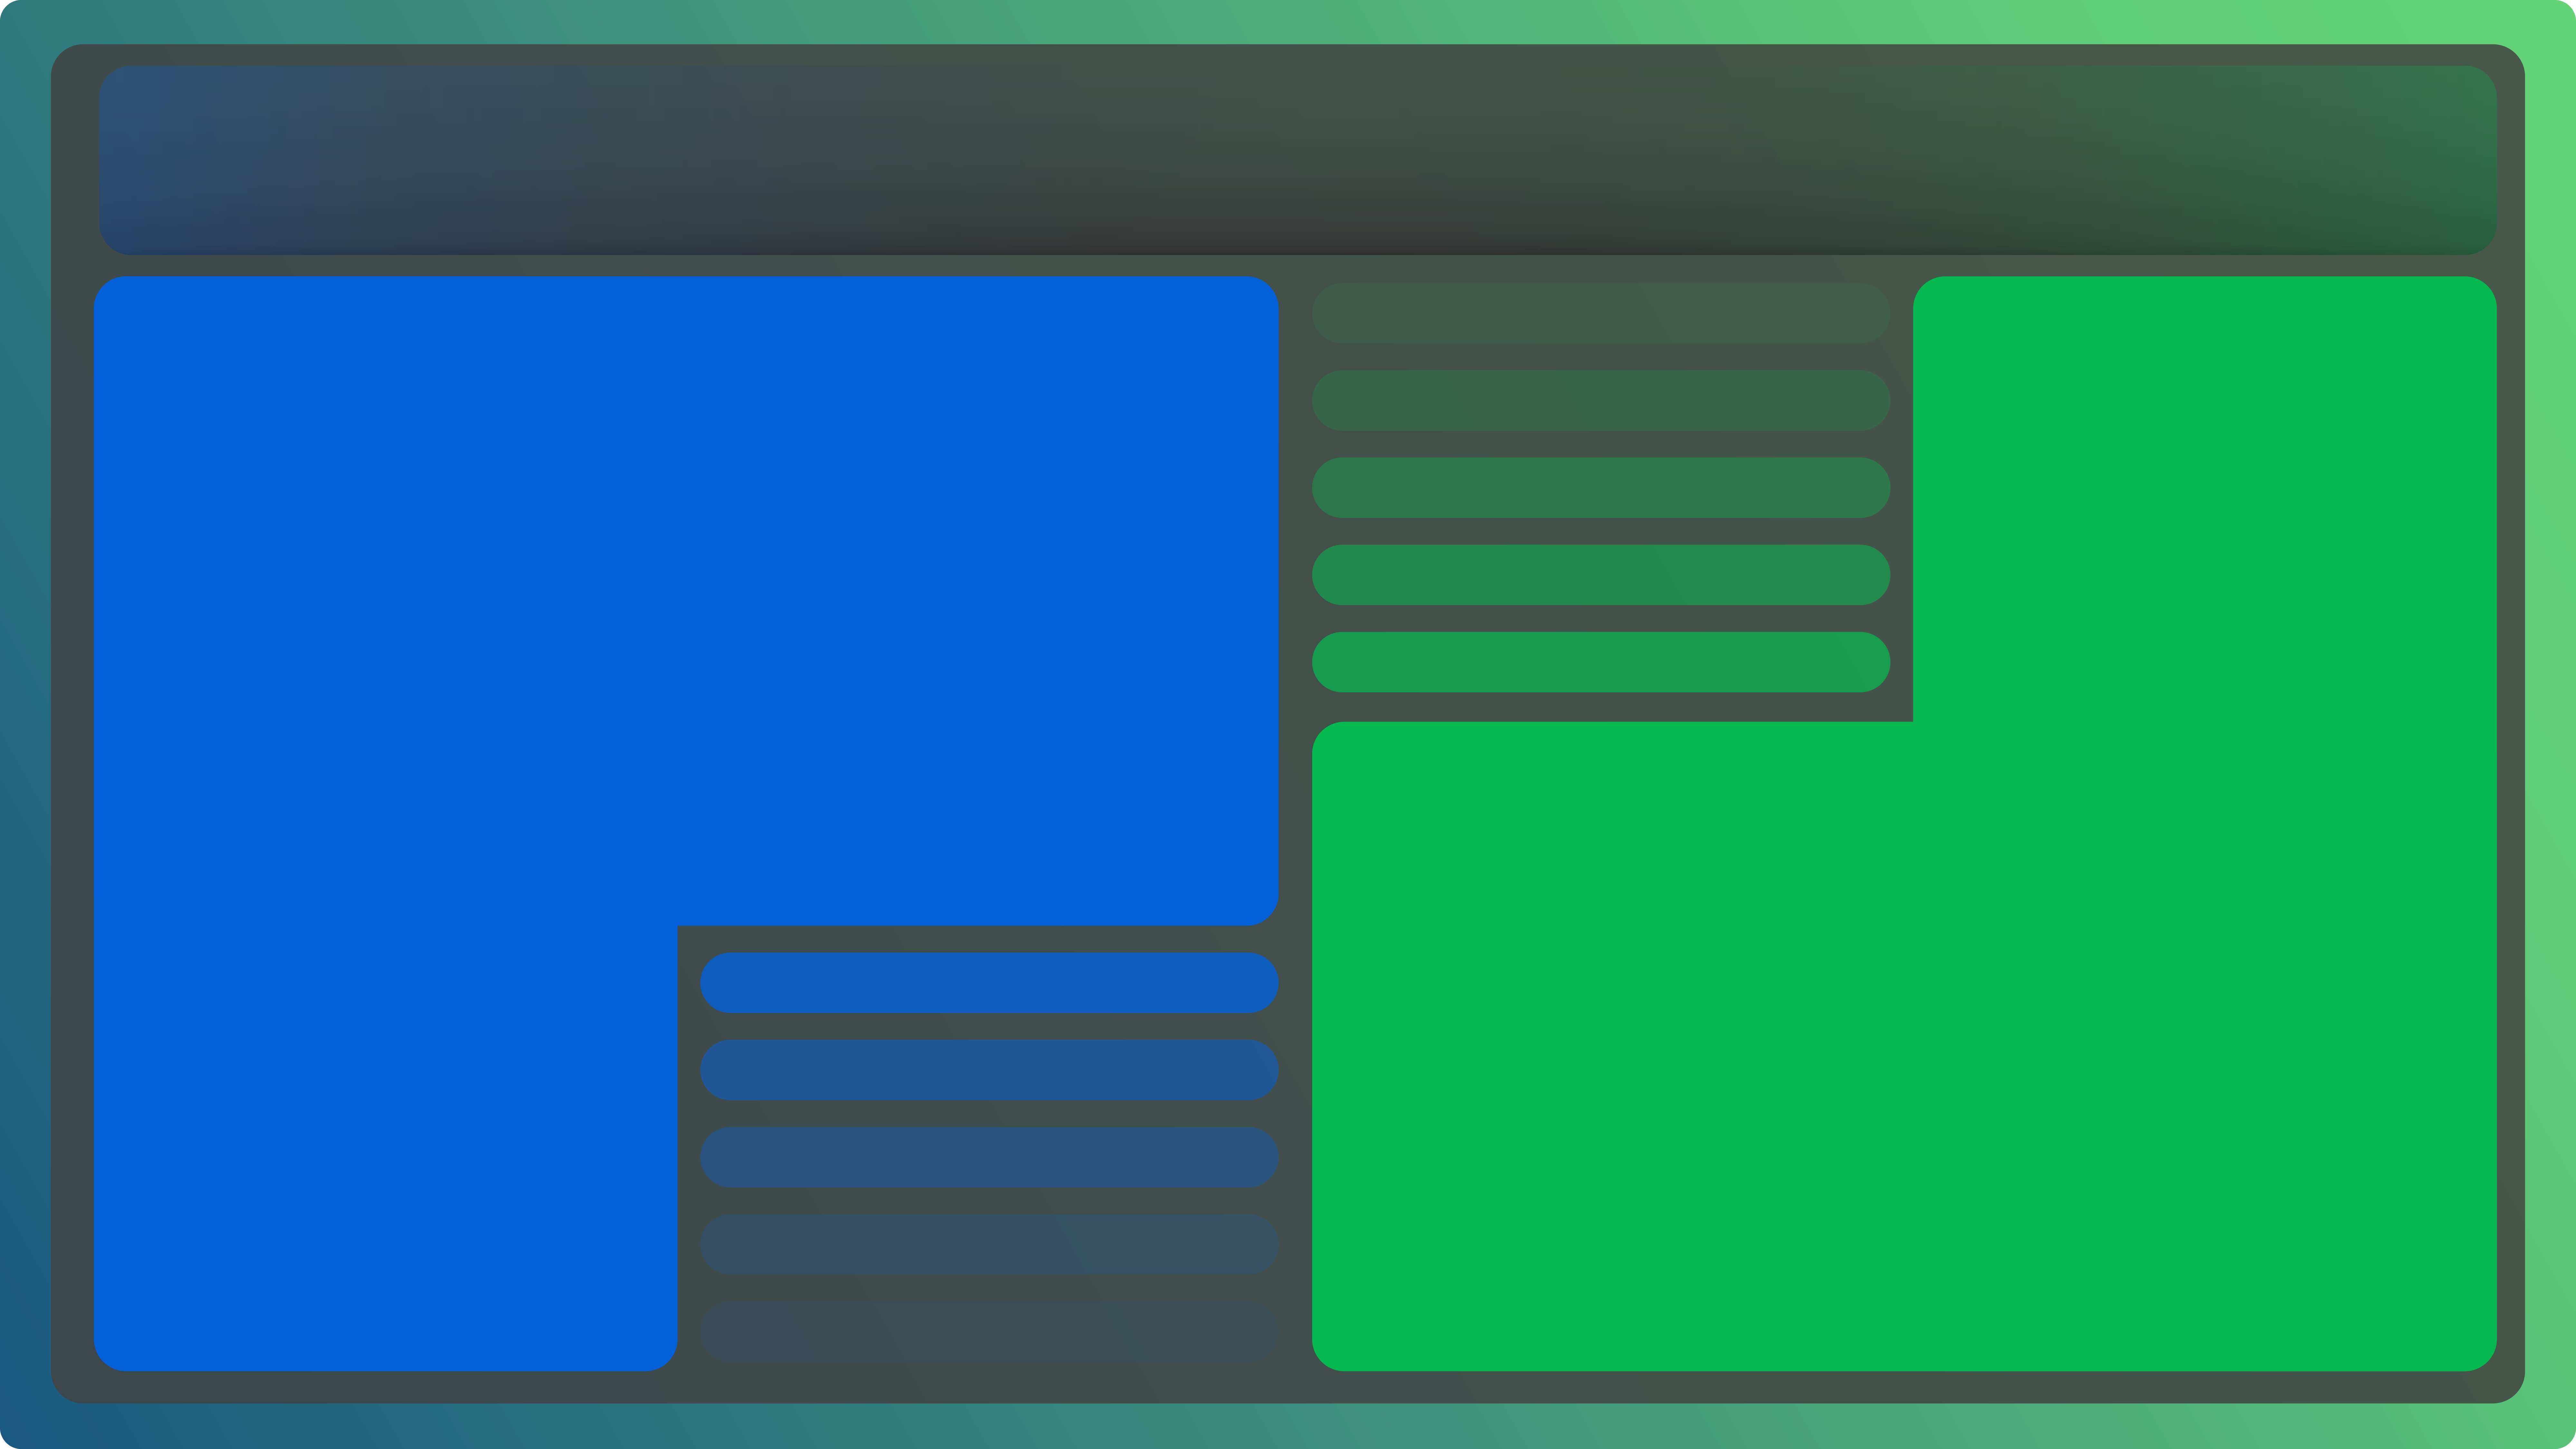

Layout of this report page (visuals, bound fields, positions):
{"tool":"tableau","page":{"name":"viz","canvas":[1450,950],"ordinal":0},"visuals":[{"type":"image","param":"Image/Dashboard @2x.png","box":[0,0,1450,950]},{"type":"image","param":"Image/Heading @2x.png","box":[85,80,494,50]},{"type":"blank","box":[579,80,362,50]},{"type":"text","box":[941,80,150,25]},{"type":"blank","box":[1091,80,30,50]},{"type":"image","param":"Image/Logo (1).png","box":[1121,80,244,25]},{"type":"worksheet","title":"Toggle Switch","mark":"Shape","rows":["Calculation_66428104941862918"],"box":[941,105,50,25]},{"type":"blank","box":[991,105,100,25]},{"type":"text","box":[1121,105,244,25]},{"type":"text","box":[90,180,110,30]},{"type":"worksheet","title":"Date indicator","mark":"Text","box":[200,180,380,30]},{"type":"text","box":[640,180,338,30]},{"type":"text","box":[978,180,382,30]},{"type":"blank","box":[90,210,490,10]},{"type":"worksheet","title":"Gender","mark":"Pie","rows":["Gender"],"cols":["Calculation_969681346415046657","Calculation_969681346415046657"],"box":[640,210,170,230]},{"type":"blank","box":[810,210,17,230]},{"type":"blank","box":[1057,210,22,230]},{"type":"image","param":"Image/a.png","box":[110,220,40,70]},{"type":"worksheet","title":"KPI 1","mark":"Text","box":[150,220,117,70]},{"type":"image","param":"Image/b.png","box":[267,220,40,70]},{"type":"worksheet","title":"KPI 2","mark":"Text","box":[307,220,117,70]},{"type":"image","param":"Image/c.png","box":[424,220,40,70]},{"type":"worksheet","title":"KPI 3","mark":"Text","box":[464,220,116,70]},{"type":"text","box":[832,220,220,25]},{"type":"worksheet","title":"Education Header","mark":"Text","box":[1089,220,178,25]},{"type":"parameter","param":"[Parameters].[Parameter 2]","box":[1267,220,83,25]},{"type":"worksheet","title":"Age Group","mark":"Bar","rows":["EmployeeCount"],"box":[832,245,220,185]},{"type":"worksheet","title":"Education","mark":"Bar","rows":["Calculation_635570549120753665","Calculation_969681346417168386"],"cols":["vtmin"],"box":[1089,250,260,185]},{"type":"worksheet","title":"Education (A)","mark":"Bar","rows":["Calculation_635570549120753665","Calculation_969681346417168386"],"cols":["vtmin"],"box":[1349,250,1,185]},{"type":"blank","box":[90,290,490,21]},{"type":"worksheet","title":"Department","mark":"Pie","rows":["Department"],"cols":["Calculation_635570549245562889","Calculation_635570549245562889"],"box":[90,311,187,249]},{"type":"blank","box":[277,311,12,249]},{"type":"text","box":[299,321,174,29]},{"type":"parameter","param":"[Parameters].[Parameter 3]","box":[473,321,97,29]},{"type":"worksheet","title":"Job Role","mark":"Shape","rows":["JobRole"],"cols":["Calculation_969681346417168386"],"box":[299,350,271,200]},{"type":"text","box":[640,500,250,30]},{"type":"worksheet","title":"Satisfaction Score- Info","mark":"Shape","cols":["Calculation_17170025537437710"],"box":[890,500,30,30]},{"type":"text","box":[980,500,380,30]},{"type":"worksheet","title":"Satisfaction Score Header","mark":"Text","rows":["Calculation_1632554917652107265"],"cols":["EnvironmentSatisfaction"],"box":[640,530,280,25]},{"type":"text","box":[980,530,56,27]},{"type":"filter","title":"Attrition Detail","param":"[federated.05j07o51a9v3ul13aijys15hxtp7].[none:Calculation_635570549291978795:nk","box":[1036,530,106.5,27]},{"type":"blank","box":[1142.5,530,32,27]},{"type":"text","box":[1174.5,530,79,27]},{"type":"filter","title":"Attrition Detail","param":"[federated.05j07o51a9v3ul13aijys15hxtp7].[my:Attrition Date:ok]","box":[1253.5,530,106.5,27]},{"type":"worksheet","title":"Attrition Detail","mark":"Text","rows":["EmployeeNumber","Attrition Date"],"cols":["Calculation_635570549295177775","Calculation_635570549299482675","Calculation_635570549295177775"],"box":[980,557,380,303]},{"type":"blank","box":[90,560,490,20]},{"type":"worksheet","title":"Environment Satisfaction ","mark":"Square","rows":["Calculation_635570549282226201"],"cols":["EnvironmentSatisfaction"],"box":[646,561,268,49]},{"type":"text","box":[100,590,265,25]},{"type":"text","box":[365,590,95,25]},{"type":"worksheet","title":"Trend - Toggle Buttons","mark":"Shape","cols":["Period Selector"],"box":[460,590,110,25]},{"type":"worksheet","title":"Trend - % Difference","mark":"Text","box":[100,615,470,25]},{"type":"worksheet","title":"Job Satisfaction ","mark":"Square","rows":["Calculation_1632554917660635139"],"cols":["JobSatisfaction"],"box":[646,622,268,49]},{"type":"worksheet","title":"Attrition Trend- M","mark":"Bar","rows":["EmployeeCount"],"cols":["Attrition Date"],"box":[100,645,467,173]},{"type":"worksheet","title":"Attrition Trend- Y","mark":"Bar","rows":["EmployeeCount"],"cols":["Attrition Date"],"box":[567,645,1,173]},{"type":"worksheet","title":"Attrition Trend- Q","mark":"Bar","rows":["EmployeeCount"],"cols":["Attrition Date"],"box":[568,645,1,173]},{"type":"worksheet","title":"Attrition Trend- W","mark":"Bar","rows":["EmployeeCount"],"cols":["Attrition Date"],"box":[569,645,1,173]},{"type":"worksheet","title":"Job Involvement ","mark":"Square","rows":["Calculation_635570549283553314"],"cols":["JobInvolvement"],"box":[646,683,268,49]},{"type":"worksheet","title":"Relationship Satisfaction ","mark":"Square","rows":["Calculation_635570549283098655"],"cols":["RelationshipSatisfaction"],"box":[646,744,268,49]},{"type":"blank","box":[104,797,48,22]},{"type":"worksheet","title":"Work Life Balance","mark":"Square","rows":["Calculation_635570549284532261"],"cols":["WorkLifeBalance"],"box":[646,805,268,49]},{"type":"text","box":[90,838,340,22]},{"type":"worksheet","title":"IIB Awards","mark":"Shape","rows":["Calculation_892557189511622660"],"box":[430,838,30,22]},{"type":"dashboard-object","box":[460,838,30,22]},{"type":"dashboard-object","box":[490,838,30,22]},{"type":"image","param":"Image/Twitter.png","box":[520,838,30,22]},{"type":"image","param":"Image/Data source.png","box":[550,838,30,22]}]}

Visuals, with their boxes on the page's 1450x950 design canvas (x1, y1, x2, y2). These are canvas units, not pixel positions in the 2576x1449 screenshot, which may show the page scaled, cropped or inside an application window:
image: [0,0,1450,950]
image: [85,80,579,130]
blank: [579,80,941,130]
text: [941,80,1091,105]
blank: [1091,80,1121,130]
image: [1121,80,1365,105]
"Toggle Switch" worksheet (Shape marks): [941,105,991,130]
blank: [991,105,1091,130]
text: [1121,105,1365,130]
text: [90,180,200,210]
"Date indicator" worksheet (Text marks): [200,180,580,210]
text: [640,180,978,210]
text: [978,180,1360,210]
blank: [90,210,580,220]
"Gender" worksheet (Pie marks): [640,210,810,440]
blank: [810,210,827,440]
blank: [1057,210,1079,440]
image: [110,220,150,290]
"KPI 1" worksheet (Text marks): [150,220,267,290]
image: [267,220,307,290]
"KPI 2" worksheet (Text marks): [307,220,424,290]
image: [424,220,464,290]
"KPI 3" worksheet (Text marks): [464,220,580,290]
text: [832,220,1052,245]
"Education Header" worksheet (Text marks): [1089,220,1267,245]
parameter: [1267,220,1350,245]
"Age Group" worksheet (Bar marks): [832,245,1052,430]
"Education" worksheet (Bar marks): [1089,250,1349,435]
"Education (A)" worksheet (Bar marks): [1349,250,1350,435]
blank: [90,290,580,311]
"Department" worksheet (Pie marks): [90,311,277,560]
blank: [277,311,289,560]
text: [299,321,473,350]
parameter: [473,321,570,350]
"Job Role" worksheet (Shape marks): [299,350,570,550]
text: [640,500,890,530]
"Satisfaction Score- Info" worksheet (Shape marks): [890,500,920,530]
text: [980,500,1360,530]
"Satisfaction Score Header" worksheet (Text marks): [640,530,920,555]
text: [980,530,1036,557]
"Attrition Detail" filter: [1036,530,1142,557]
blank: [1142,530,1174,557]
text: [1174,530,1254,557]
"Attrition Detail" filter: [1254,530,1360,557]
"Attrition Detail" worksheet (Text marks): [980,557,1360,860]
blank: [90,560,580,580]
"Environment Satisfaction " worksheet (Square marks): [646,561,914,610]
text: [100,590,365,615]
text: [365,590,460,615]
"Trend - Toggle Buttons" worksheet (Shape marks): [460,590,570,615]
"Trend - % Difference" worksheet (Text marks): [100,615,570,640]
"Job Satisfaction " worksheet (Square marks): [646,622,914,671]
"Attrition Trend- M" worksheet (Bar marks): [100,645,567,818]
"Attrition Trend- Y" worksheet (Bar marks): [567,645,568,818]
"Attrition Trend- Q" worksheet (Bar marks): [568,645,569,818]
"Attrition Trend- W" worksheet (Bar marks): [569,645,570,818]
"Job Involvement " worksheet (Square marks): [646,683,914,732]
"Relationship Satisfaction " worksheet (Square marks): [646,744,914,793]
blank: [104,797,152,819]
"Work Life Balance" worksheet (Square marks): [646,805,914,854]
text: [90,838,430,860]
"IIB Awards" worksheet (Shape marks): [430,838,460,860]
dashboard-object: [460,838,490,860]
dashboard-object: [490,838,520,860]
image: [520,838,550,860]
image: [550,838,580,860]
